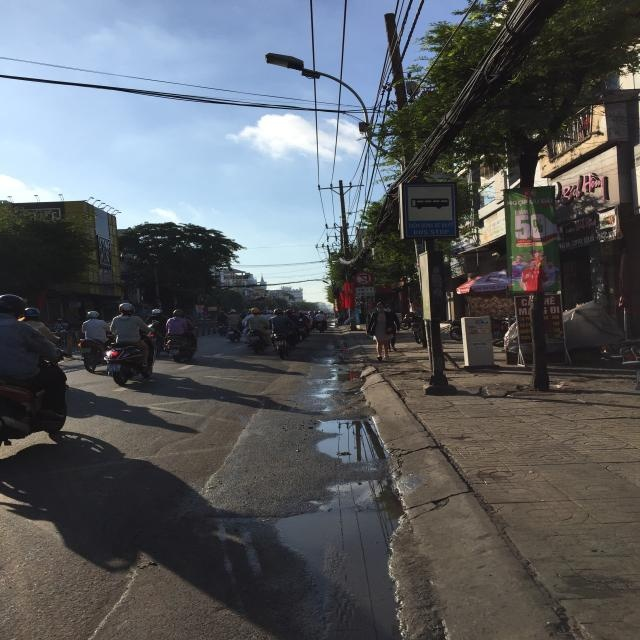bien_cam: (396, 182, 456, 235), (351, 270, 375, 287)
